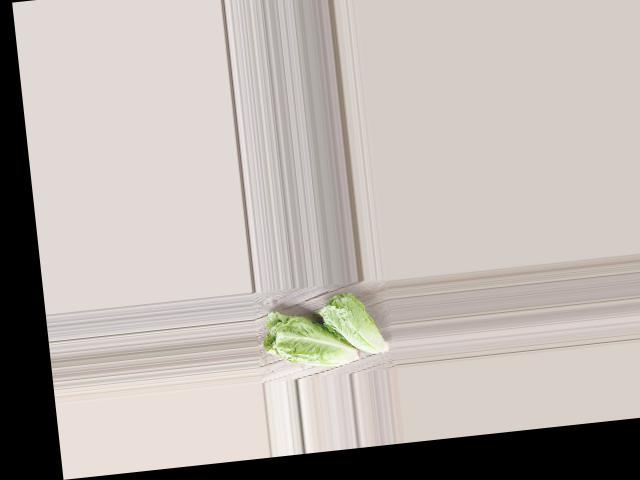lettuce: (314, 282, 394, 362)
